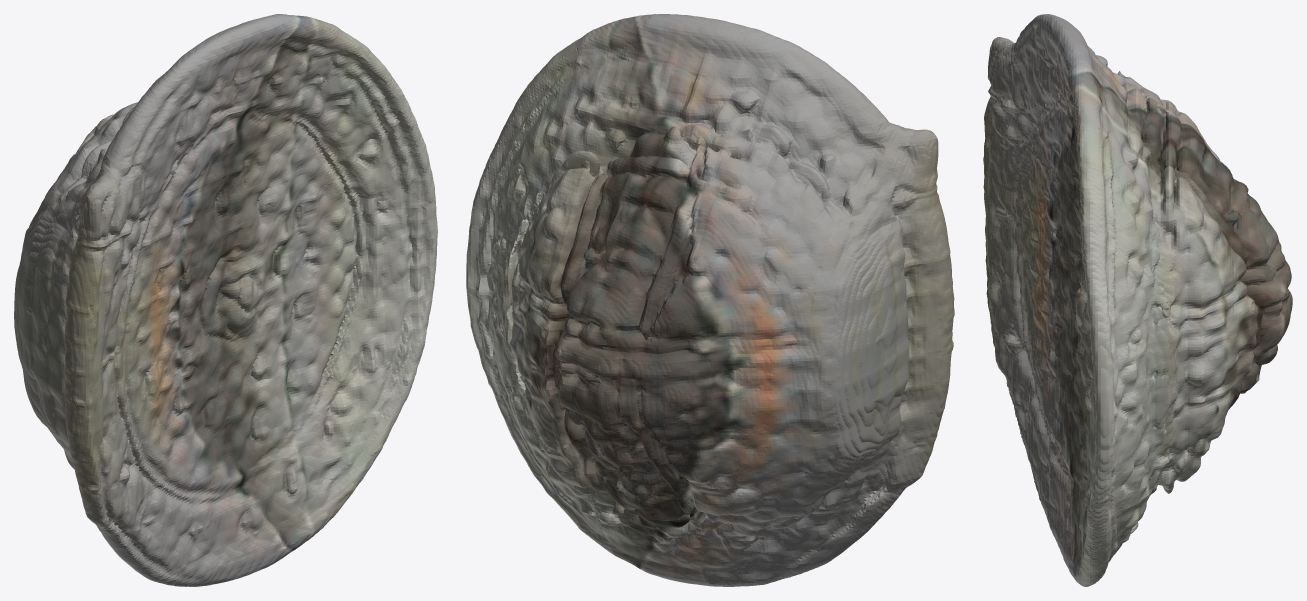
3 views of the same model, side by side, from view 1: azimuth 30°, elevation 25°; view 2: azimuth 150°, elevation 25°; view 3: azimuth 270°, elevation 25° (orthographic). The views are drawn at different scales.
Parts seen in each view (by area): view 1: geometry_0; view 2: geometry_0; view 3: geometry_0.
Boxes of the visible parts, box(x1,y1,x2,y2) form: geometry_0: box(14, 14, 437, 586); geometry_0: box(466, 14, 954, 586); geometry_0: box(983, 14, 1292, 586).
Bounding box in the file's own units: 0.7801 × 0.9795 × 0.5176.
